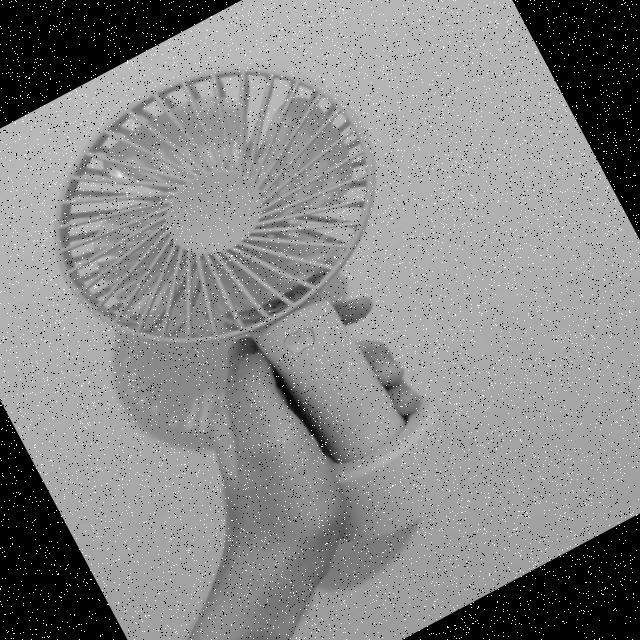fan: (0, 4, 429, 397)
